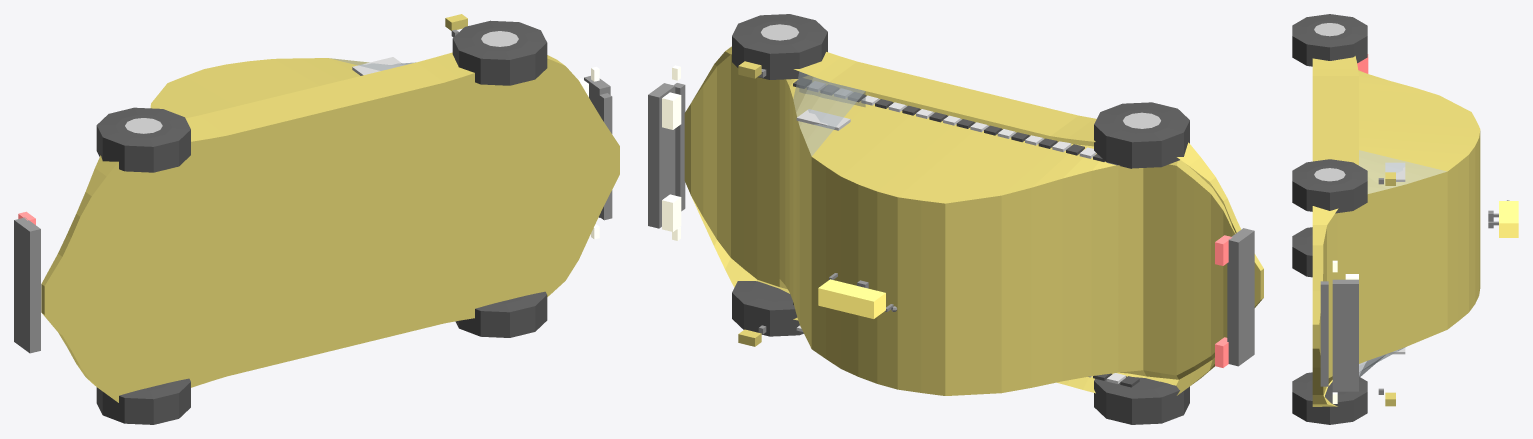
File: Vehicle_4_7.glb
3 views of the same model, side by side, from view 1: azimuth 30°, elevation 25°; view 2: azimuth 150°, elevation 25°; view 3: azimuth 270°, elevation 25° (orthographic). The views are drawn at different scales.
Visible parts, largest first — view 1: Body, Wheel_-1.3_0.88, Wheel_1.3_0.88, BumperR, Wheel_-1.3_-0.88, Wheel_1.3_-0.88, BumperFR; view 2: Body, Wheel_-1.3_0.88, Wheel_1.3_0.88, BumperR, Wheel_-1.3_-0.88, Windows, BumperF, Wheel_1.3_-0.88, RoofSign, BumperFR, HL_L, HL_R (+1 smaller); view 3: Body, Wheel_1.3_0.88, BumperF, Wheel_-1.3_0.88, Wheel_1.3_-0.88, Windows, BumperFR, Wheel_-1.3_-0.88, RoofSign, Hubcap_1.3_0.88, Hubcap_-1.3_0.88, DecalR.
Boxes of the visible parts, x1,y1,x2,y2 form: Body: (41,52,619,402); Wheel_-1.3_0.88: (96,107,190,172); Wheel_1.3_0.88: (452,20,547,85); BumperR: (14,217,40,353); Wheel_-1.3_-0.88: (96,378,190,424); Wheel_1.3_-0.88: (455,291,547,337); BumperFR: (599,93,612,220); Body: (684,46,1263,395); Wheel_-1.3_0.88: (1094,102,1189,168); Wheel_1.3_0.88: (732,14,827,79); BumperR: (1227,228,1254,366); Wheel_-1.3_-0.88: (1094,376,1189,424); Windows: (793,71,865,156); BumperF: (648,83,675,228); Wheel_1.3_-0.88: (732,281,803,336); RoofSign: (818,279,885,318); BumperFR: (674,83,685,211); HL_L: (662,194,681,231); HL_R: (662,92,681,129); Body: (1312,56,1480,406); Wheel_1.3_0.88: (1292,159,1367,213); BumperF: (1332,279,1358,391); Wheel_-1.3_0.88: (1292,14,1367,66); Wheel_1.3_-0.88: (1292,372,1367,424); Windows: (1359,150,1446,376); BumperFR: (1320,281,1328,386); Wheel_-1.3_-0.88: (1292,227,1312,277); RoofSign: (1499,201,1518,237); Hubcap_1.3_0.88: (1314,168,1345,181); Hubcap_-1.3_0.88: (1314,23,1345,36); DecalR: (1385,162,1405,181).
Bounding box in the file's own units: 4.24 × 1.96 × 1.72.
